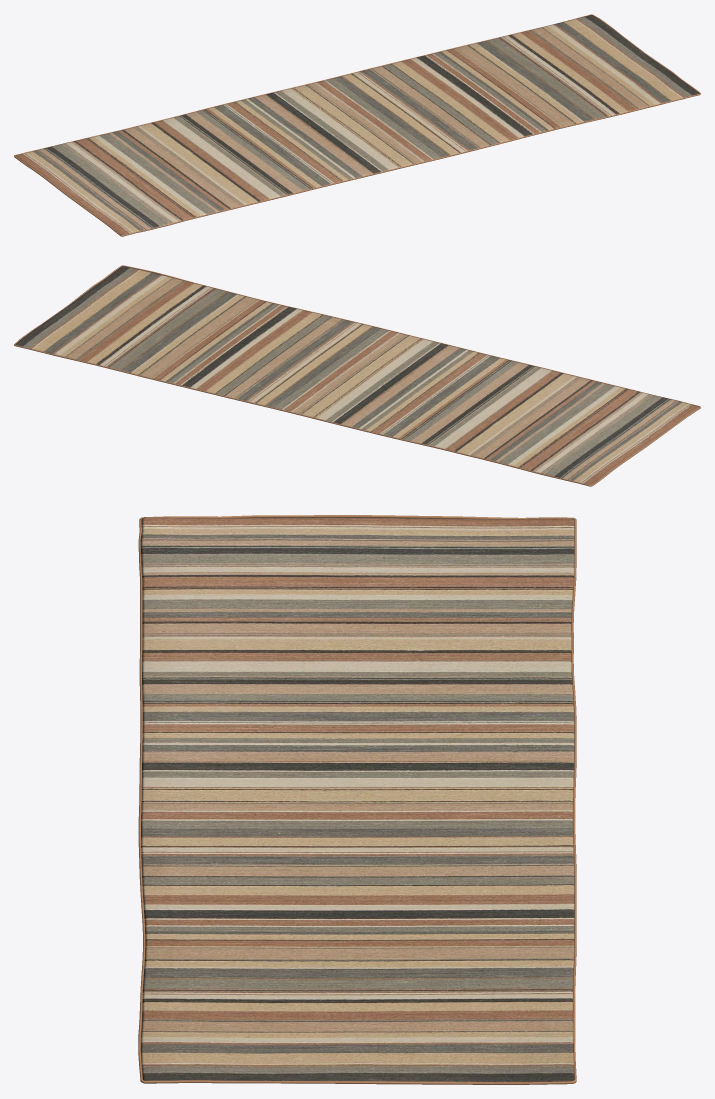
File: abo-B0735THVJ1.glb
3 renders of one model, top to bottom at view 1: azimuth 30°, elevation 25°; view 2: azimuth 150°, elevation 25°; view 3: azimuth 270°, elevation 25°, orthographic. The views are drawn at different scales.
Bounding box in the file's own units: 2.44 × 0.00999 × 0.799.
Materials: 1 (1 with a texture image).
